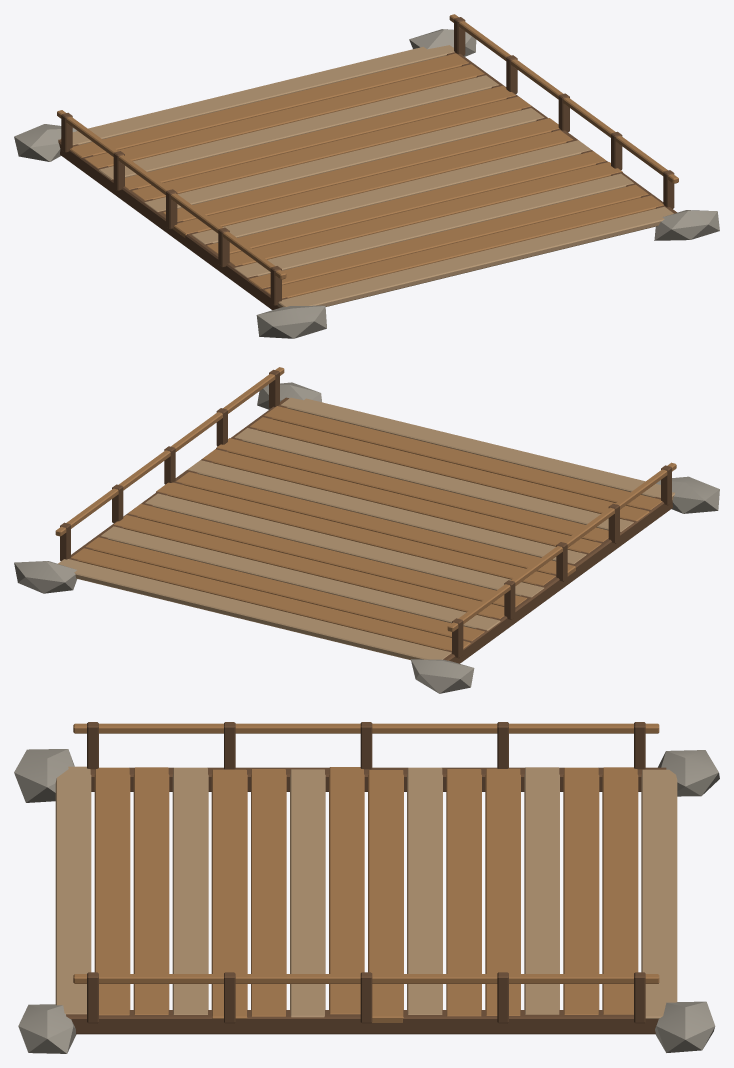
The model's file is Bridge.fbx.
The picture shows the model from 3 angles, top to bottom: view 1: azimuth 30°, elevation 25°; view 2: azimuth 150°, elevation 25°; view 3: azimuth 270°, elevation 25°; orthographic projection. The views are drawn at different scales.
Visible parts, largest first — view 1: Bridge; view 2: Bridge; view 3: Bridge.
Part boxes in pixels (box(x1,y1,x2,y2)): Bridge: box(14, 14, 719, 338); Bridge: box(14, 367, 719, 693); Bridge: box(14, 722, 719, 1053).
Size of the model in its own units: 10.69 by 1.25 by 10.84.
